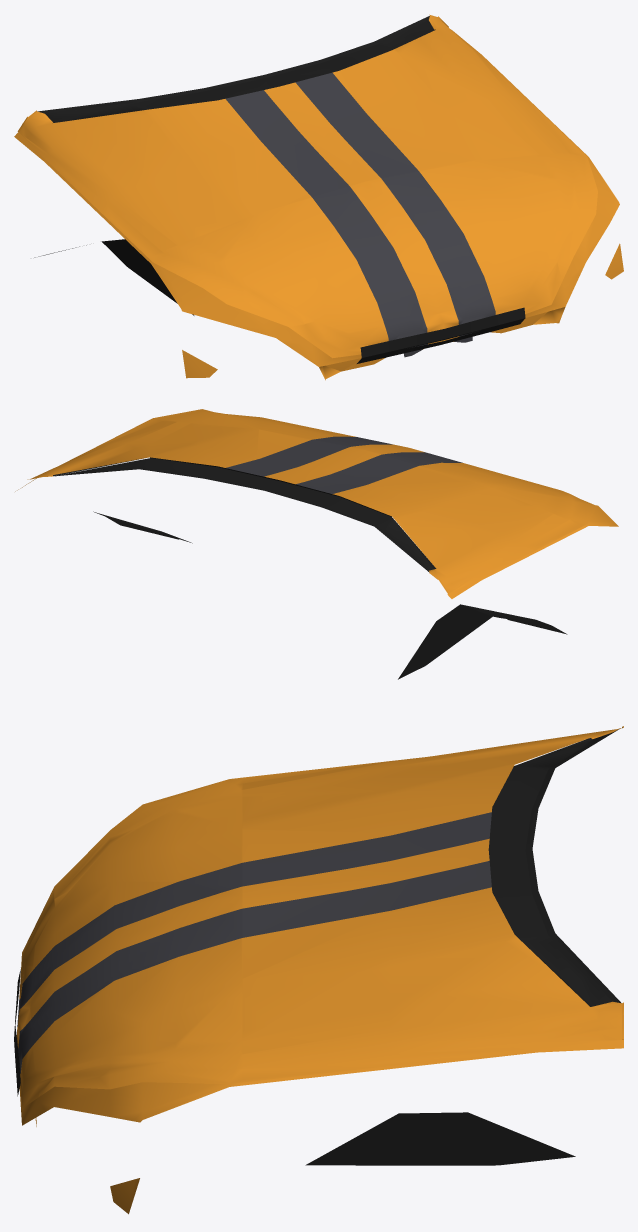
The model's file is protoHatch_hood_tsubame.glb.
The picture shows the model from 3 angles, top to bottom: view 1: azimuth 30°, elevation 25°; view 2: azimuth 150°, elevation 25°; view 3: azimuth 270°, elevation 25°; orthographic projection. The views are drawn at different scales.
Visible parts, largest first — view 1: hood_tsubame; view 2: hood_tsubame; view 3: hood_tsubame.
Boxes of the visible parts, x1=… form: hood_tsubame: x1=14, y1=14, x2=623, y2=380; hood_tsubame: x1=15, y1=409, x2=618, y2=679; hood_tsubame: x1=14, y1=726, x2=623, y2=1214.
Bounding box in the file's own units: 1.42 × 0.4468 × 1.17.
